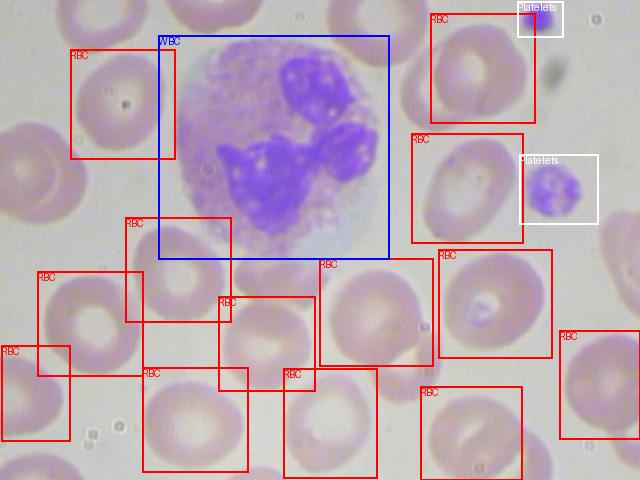Platelets: (519, 154, 598, 224), (517, 1, 563, 37)
RBC: (438, 249, 552, 358), (411, 133, 523, 243), (319, 258, 433, 366), (70, 49, 175, 159), (430, 13, 535, 123), (37, 271, 143, 376), (125, 217, 231, 322), (142, 367, 248, 472), (283, 368, 377, 478), (420, 386, 522, 480), (218, 296, 315, 391), (559, 330, 640, 439), (1, 345, 70, 441)
WBC: (158, 35, 389, 259)
